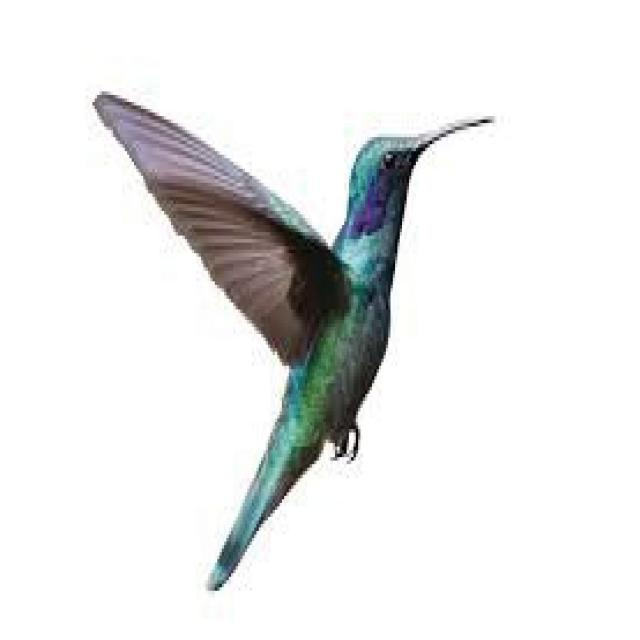hummingbird: (95, 91, 494, 587)
